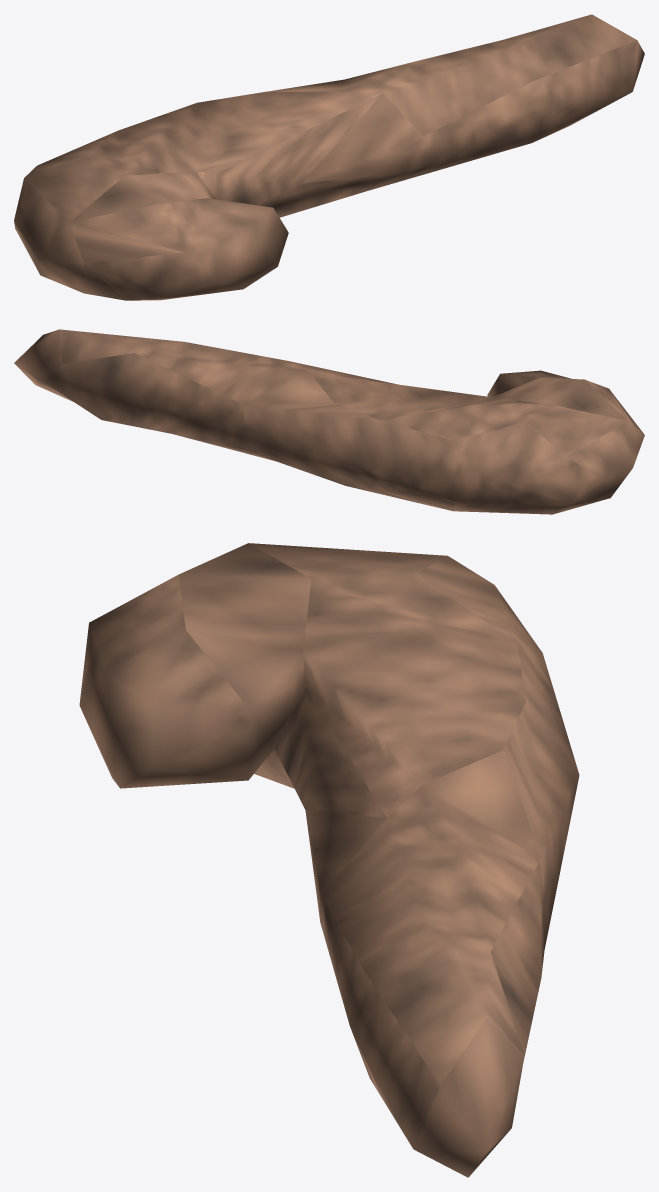
File: TCA_Pancreas.fbx
The picture shows the model from 3 angles, top to bottom: view 1: azimuth 30°, elevation 25°; view 2: azimuth 150°, elevation 25°; view 3: azimuth 270°, elevation 25°; orthographic projection. The views are drawn at different scales.
Parts seen in each view (by area): view 1: Pancreas; view 2: Pancreas; view 3: Pancreas.
Boxes of the visible parts, bbox=[...] form: Pancreas: bbox=[14, 14, 644, 300]; Pancreas: bbox=[14, 329, 644, 514]; Pancreas: bbox=[79, 543, 579, 1177].
Bounding box in the file's own units: 0.2392 × 0.0374 × 0.0907.
